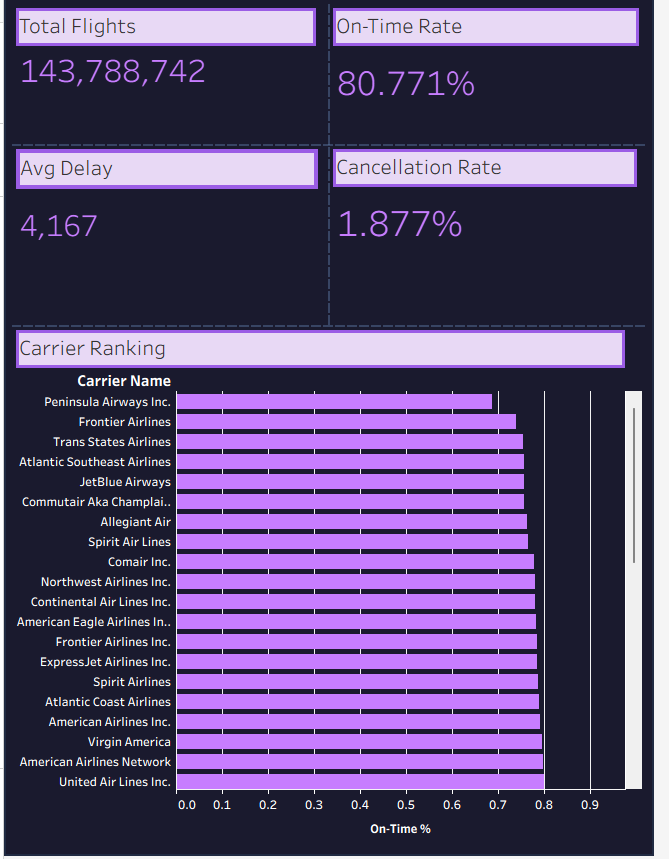

What the dashboard file says about the page in this screenshot:
{"tool":"tableau","page":{"name":"Dashboard 1","canvas":[650,860],"ordinal":0},"visuals":[{"type":"worksheet","title":"Total Flights","mark":"Automatic","box":[8,8,317,141]},{"type":"worksheet","title":"On-Time Rate","mark":"Automatic","box":[325,8,317,141]},{"type":"worksheet","title":"Avg Delay","mark":"Automatic","box":[8,149,317,181]},{"type":"worksheet","title":"Cancellation Rate","mark":"Automatic","box":[325,149,317,181]},{"type":"worksheet","title":"Carrier Ranking","mark":"Automatic","rows":["carrier_name"],"cols":["Calculation_0734239448367104"],"box":[8,330,634,522]}]}

Visuals, with their boxes in screenshot pixels (x1, y1, x2, y2):
"Total Flights" worksheet: rect(1, 1, 325, 145)
"On-Time Rate" worksheet: rect(325, 1, 649, 145)
"Avg Delay" worksheet: rect(1, 145, 325, 330)
"Cancellation Rate" worksheet: rect(325, 145, 649, 330)
"Carrier Ranking" worksheet: rect(1, 330, 649, 858)
